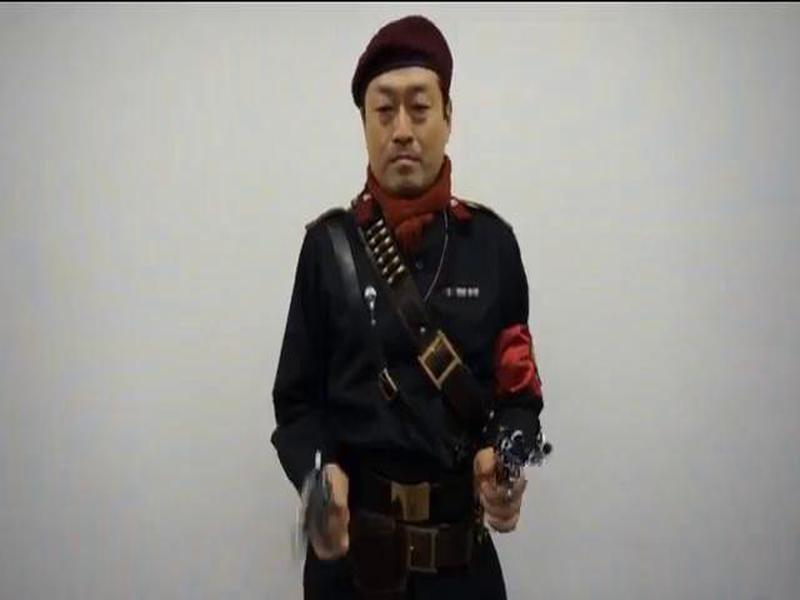Revolver: (485, 419, 560, 516)
